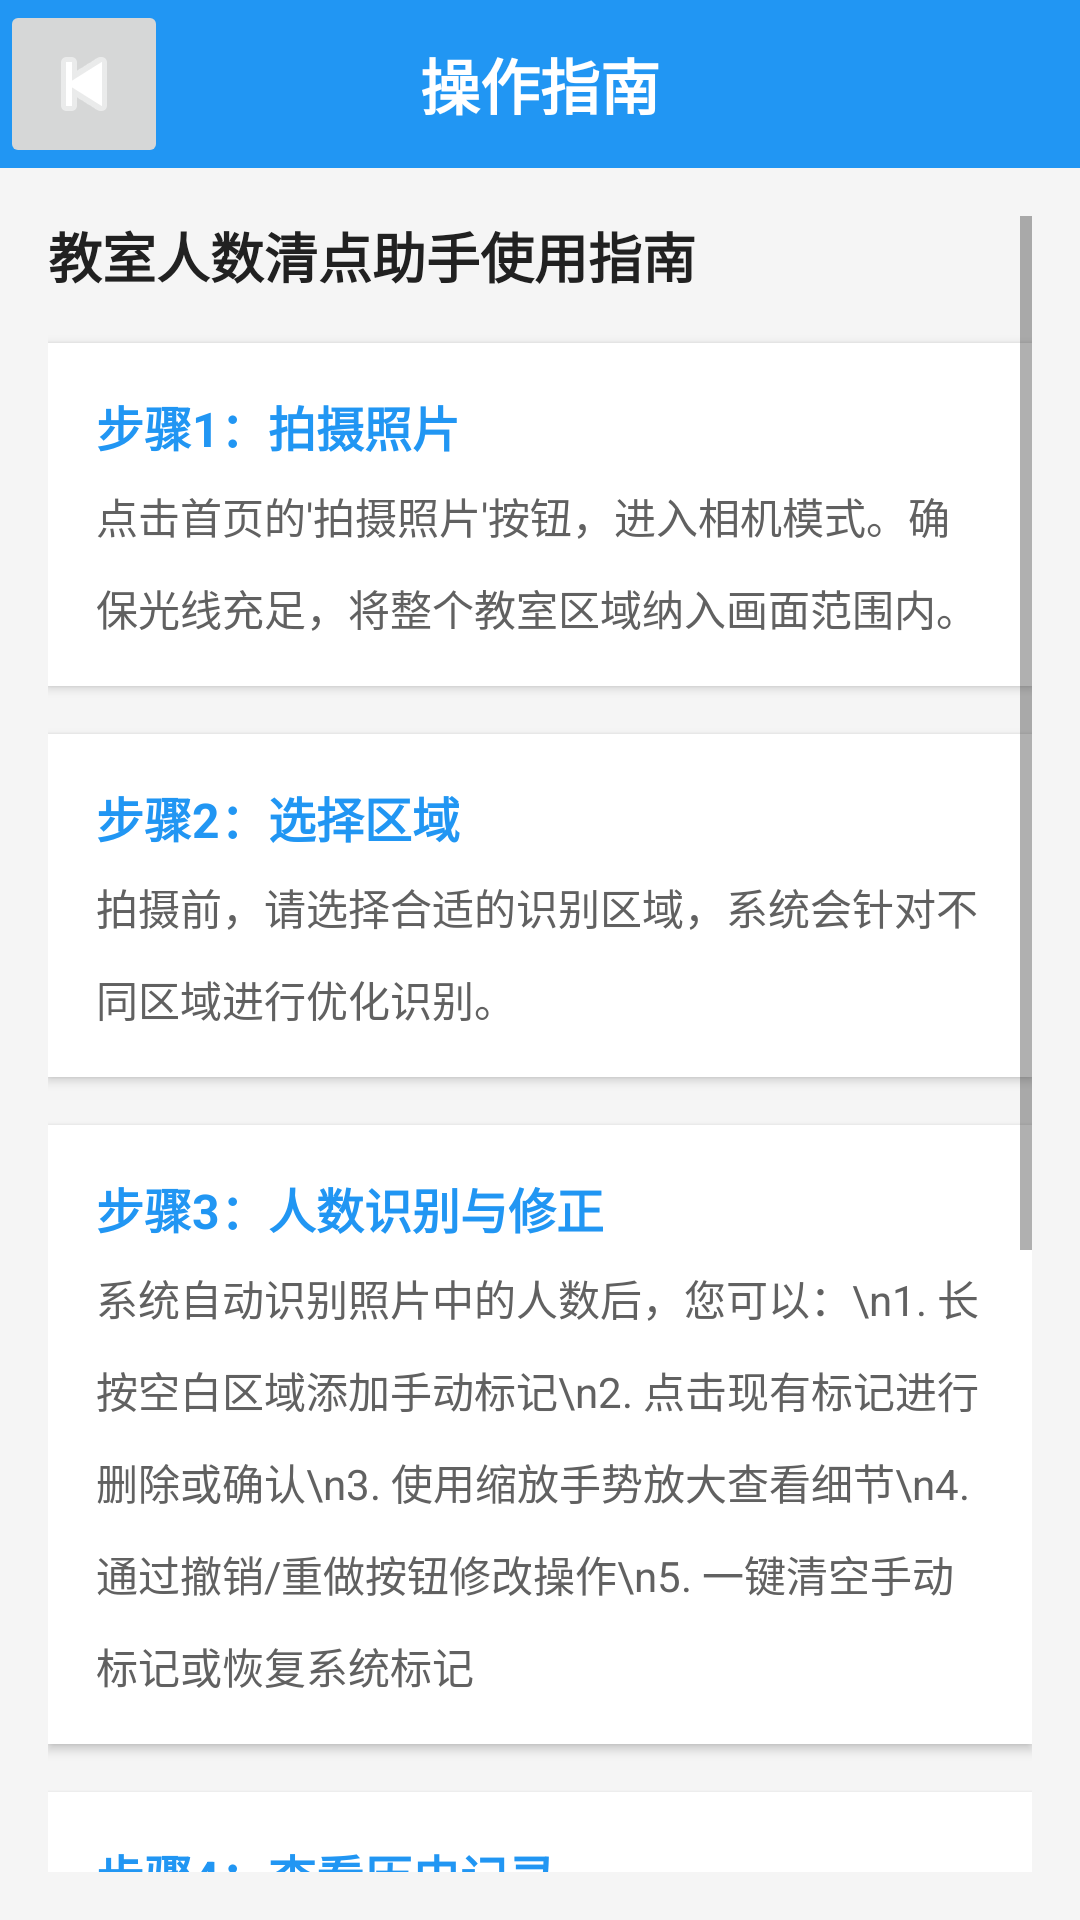

Screen size 1080 x 1920. Icon name, then its box in pixels as box=[x1, y1, x2, y2]:
返回按钮: box=[12, 18, 156, 150]
